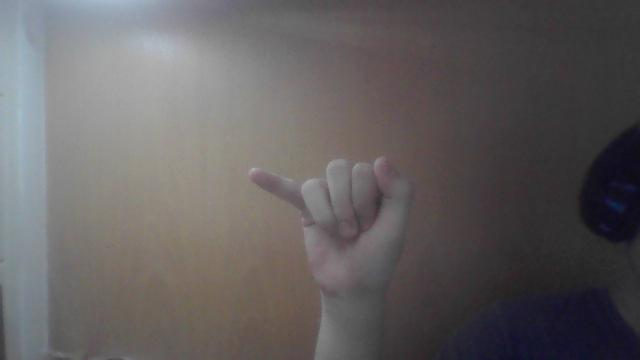Right: (240, 158, 418, 276)
